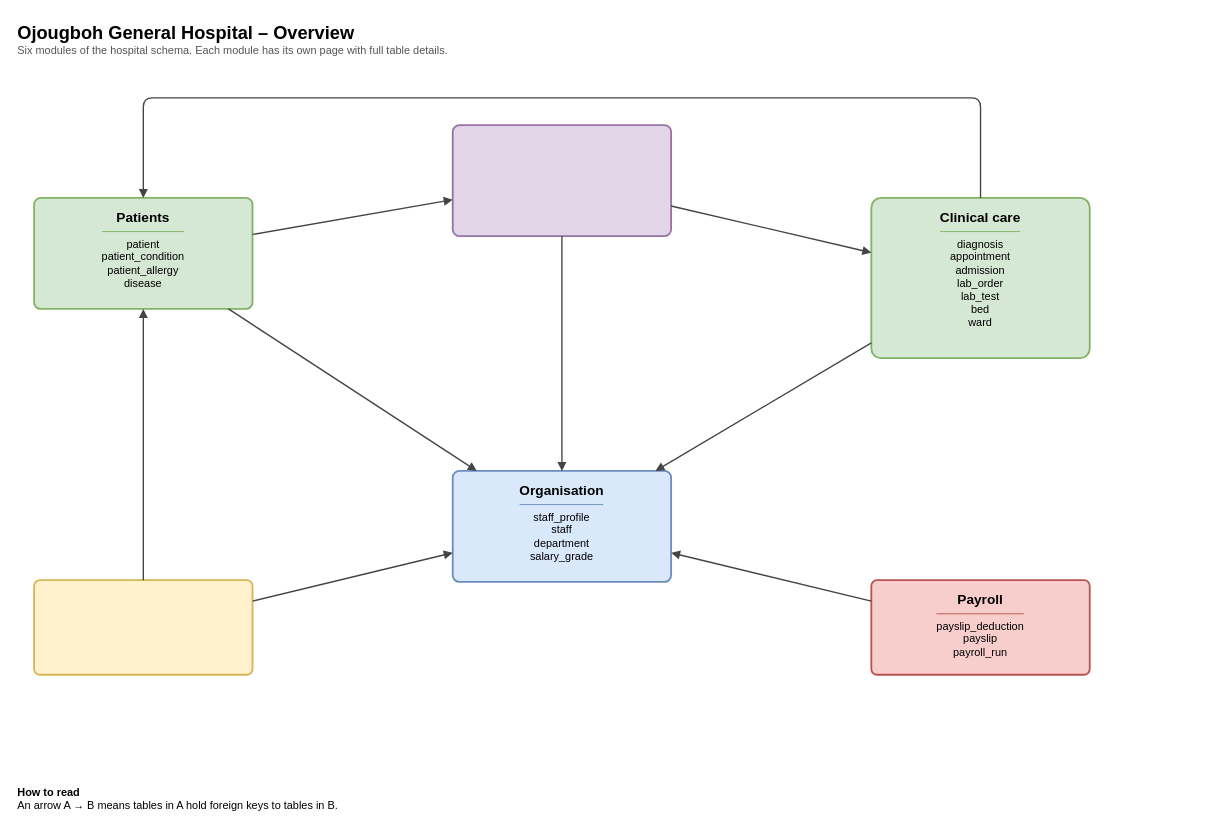
This 1214x832 diagram has some shape labels left out. Here are the shapes that lost their labels. From the top down, the centre of each, then its label:
At pixel 561 180: "Pharmacy prescription prescription_item stock_movement medicine".
At pixel 143 627: "Billing invoice_item invoice payment".
